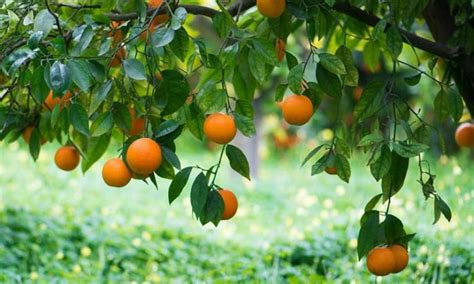orange: (124, 135, 162, 178), (203, 109, 238, 148), (280, 93, 314, 126), (102, 157, 132, 188), (367, 245, 396, 277), (53, 146, 81, 173)
